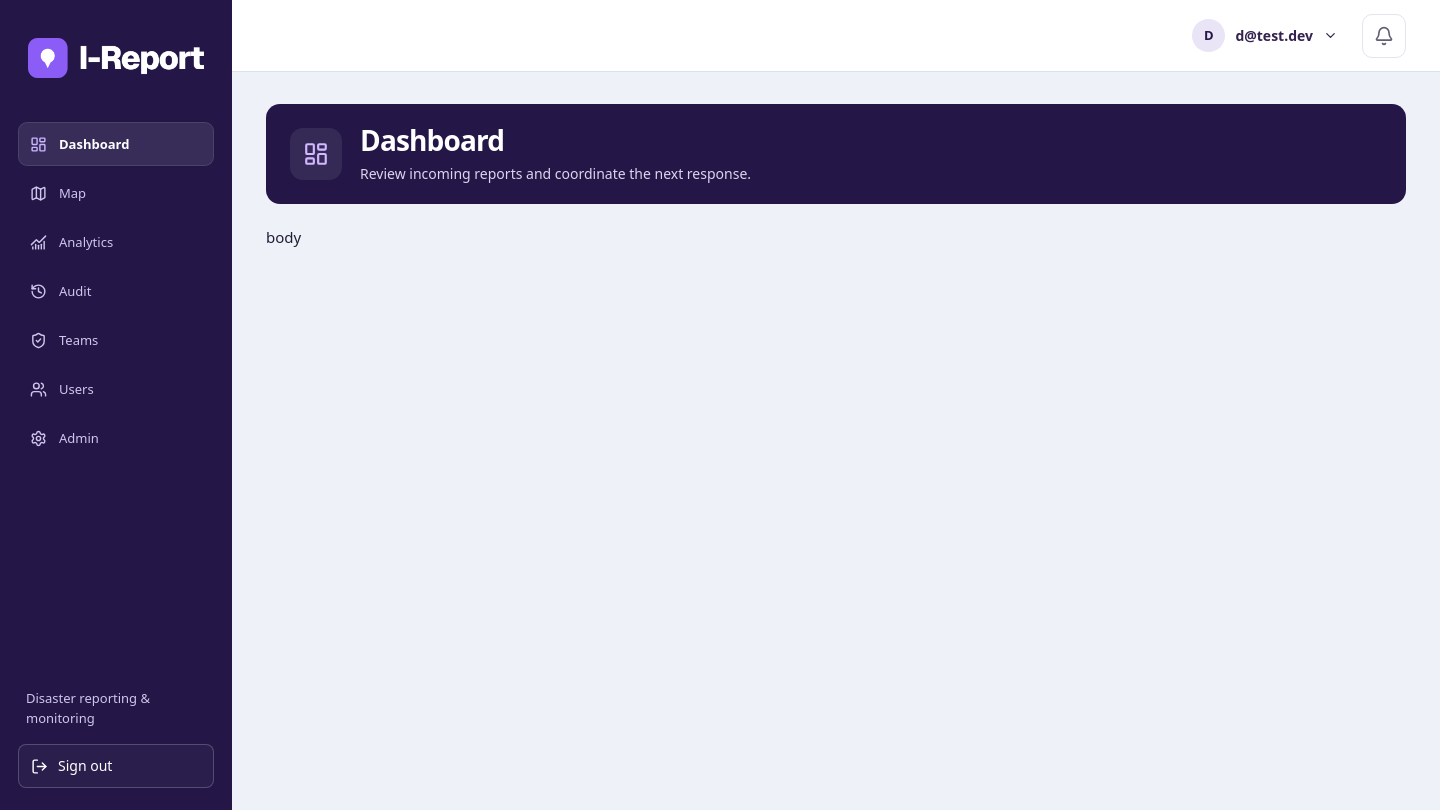
Scenario: AppShell › opens profile details from the header and keeps sign out in the sidebar
Check: the button with class "sidebar-signout" is shown, box [18,744,214,788]
Check: the field labelled "Current password" is not shown
Click the button named "Open profile for d@test.dev" at point(1265, 36), box [1184,14,1346,58]
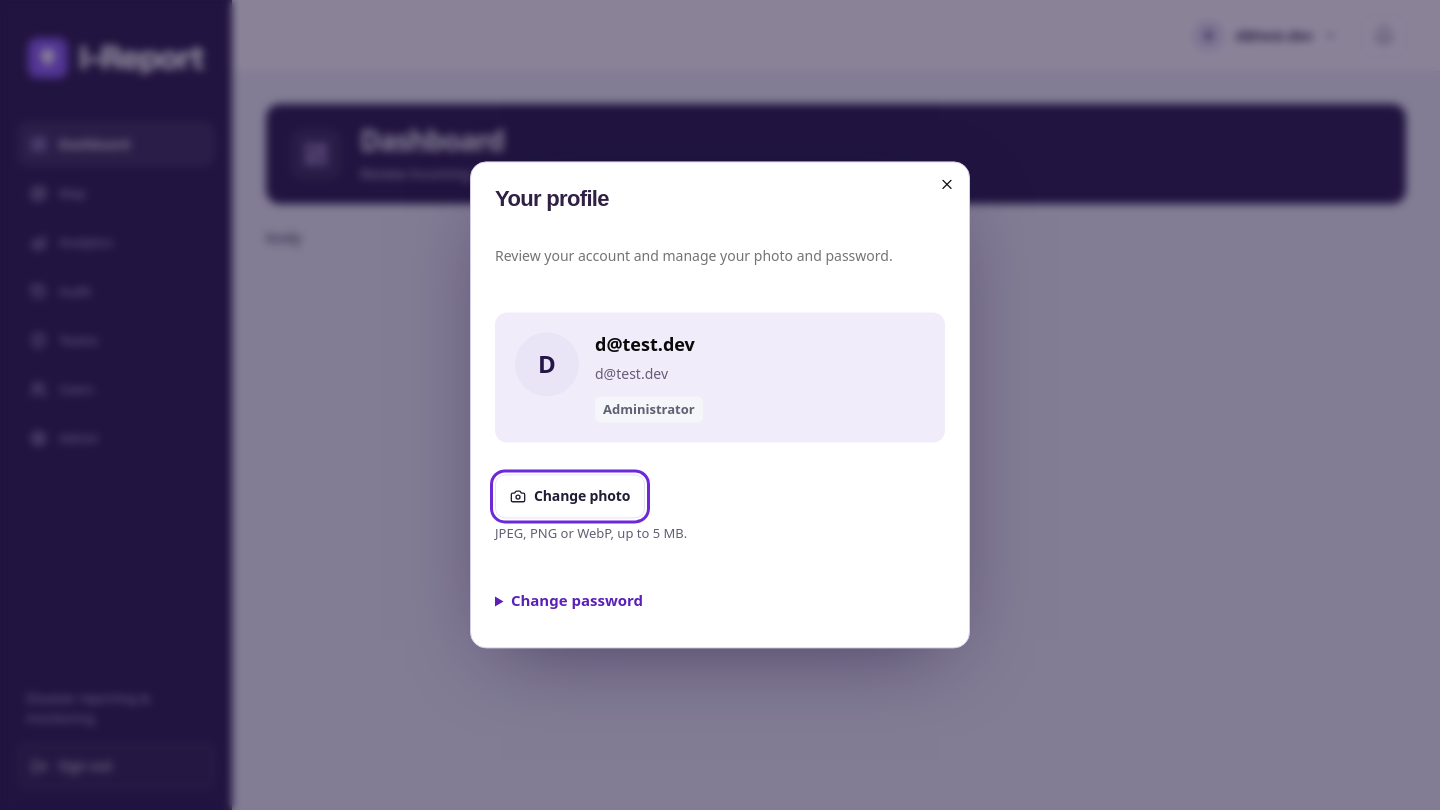
Check: the dialog "Your profile" is shown, box [470,161,970,649]
Check: the text "Administrator" is shown, box [595,396,703,423]
Click the heading "Change password" at point(577, 600), box [511,590,643,610]
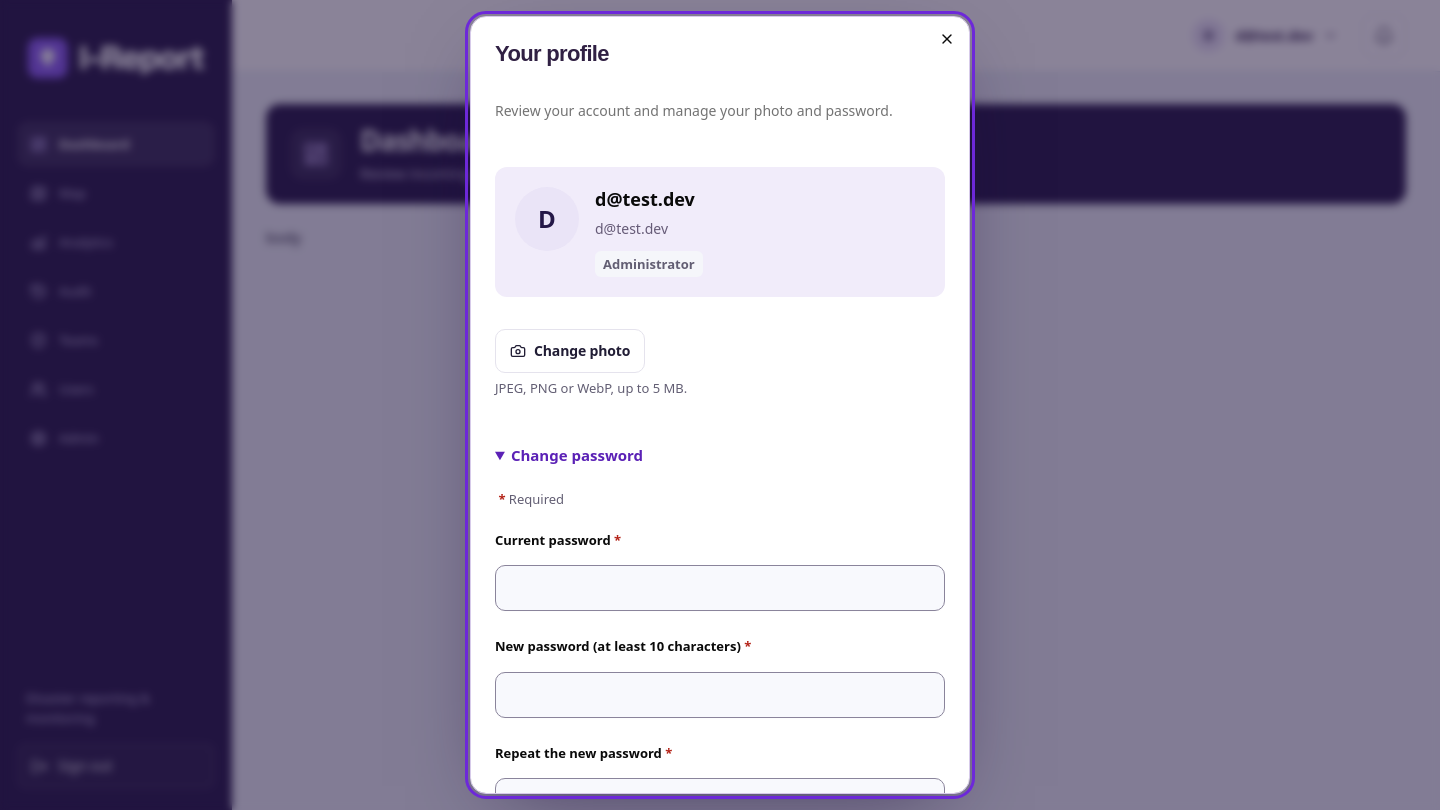
Check: the password field labelled "Current password" is shown, box [495,565,945,611]
